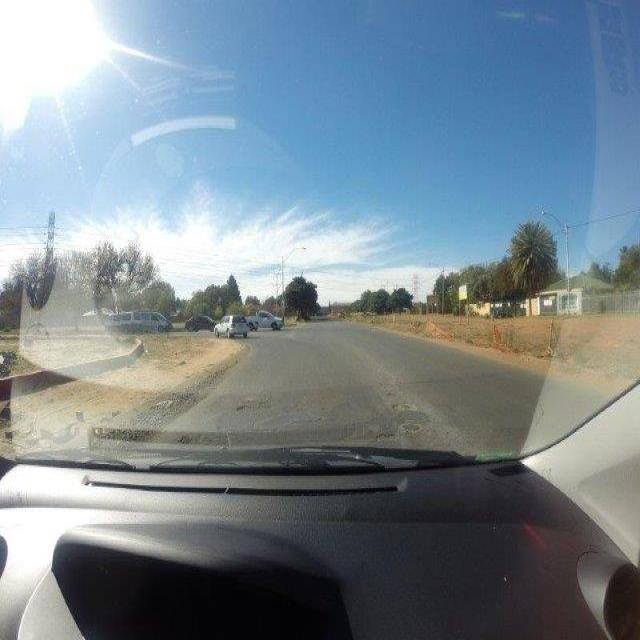jalan retak: (294, 410, 328, 429), (174, 431, 199, 452), (397, 417, 424, 436), (375, 431, 400, 444)
lubang: (366, 399, 435, 449), (231, 390, 281, 414), (383, 382, 416, 413)
